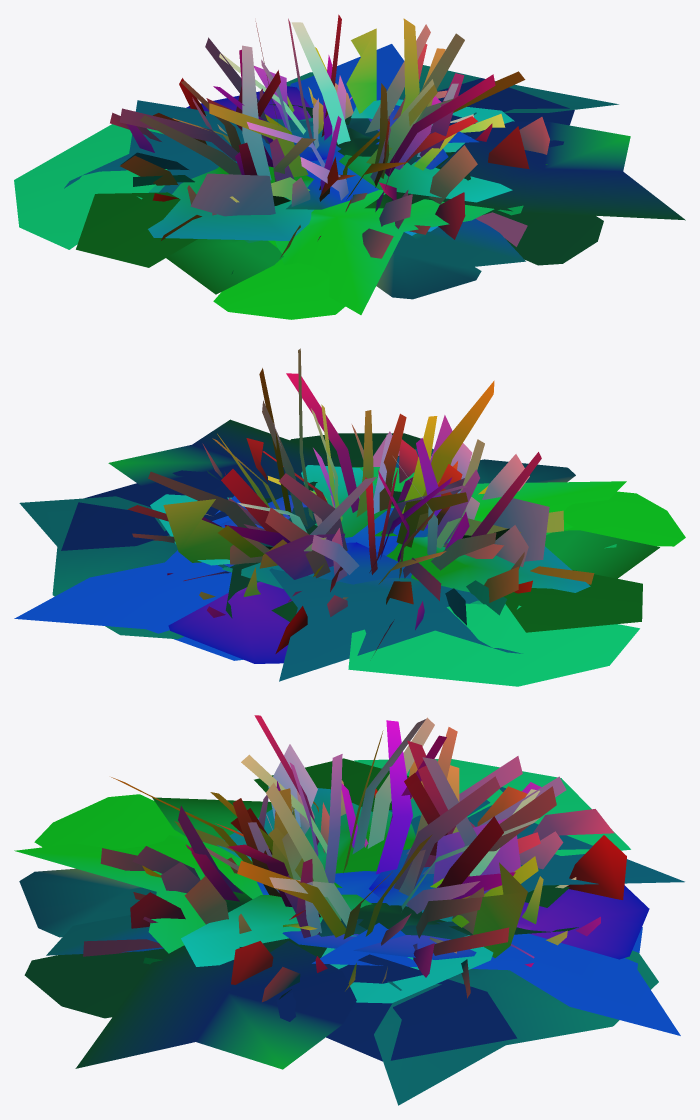
File: Wild_Grass_vdilbaiia_Mid_vdilbaiia_VarE_LOD2.fbx
3 views of the same model, one above another, from view 1: azimuth 30°, elevation 25°; view 2: azimuth 150°, elevation 25°; view 3: azimuth 270°, elevation 25° (orthographic). The views are drawn at different scales.
Visible parts, largest first — view 1: _n2ei_VarE_LOD3; view 2: _n2ei_VarE_LOD3; view 3: _n2ei_VarE_LOD3.
Boxes of the visible parts, left/top/right/bottom form: _n2ei_VarE_LOD3: left=14, top=14, right=685, bottom=319; _n2ei_VarE_LOD3: left=14, top=348, right=685, bottom=686; _n2ei_VarE_LOD3: left=14, top=715, right=684, bottom=1105.
Size of the model in its own units: 88.55 by 24.99 by 73.18.
